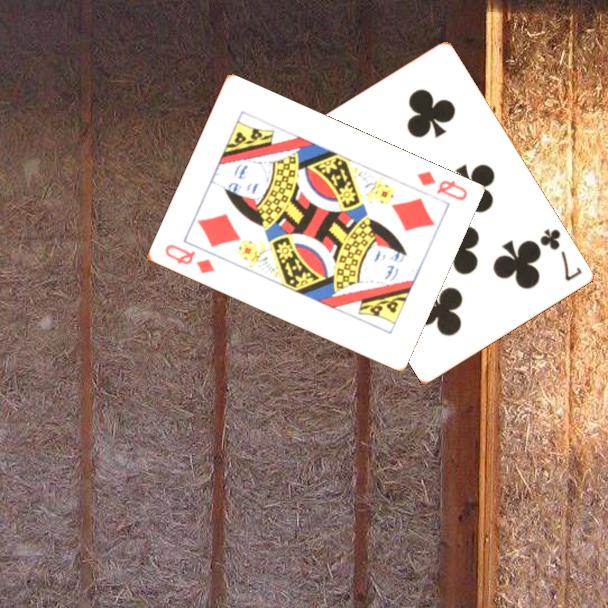c07: (537, 225, 585, 284)
d12: (413, 168, 470, 204), (161, 241, 217, 277)
